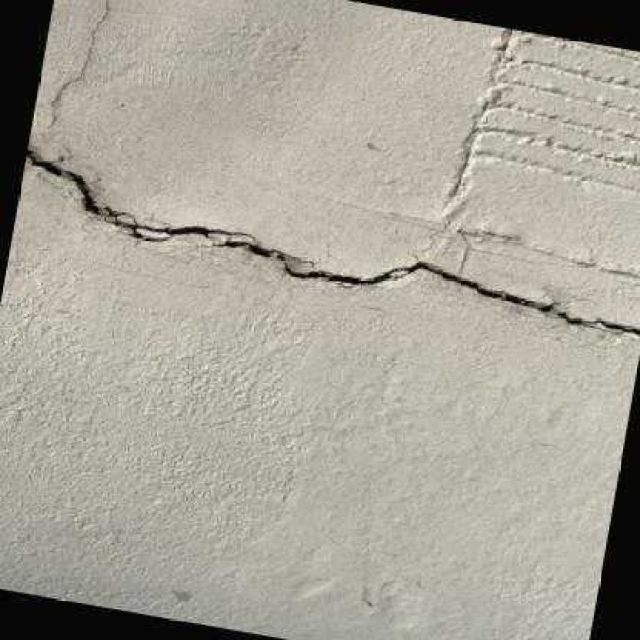D00: (24, 146, 640, 336)
